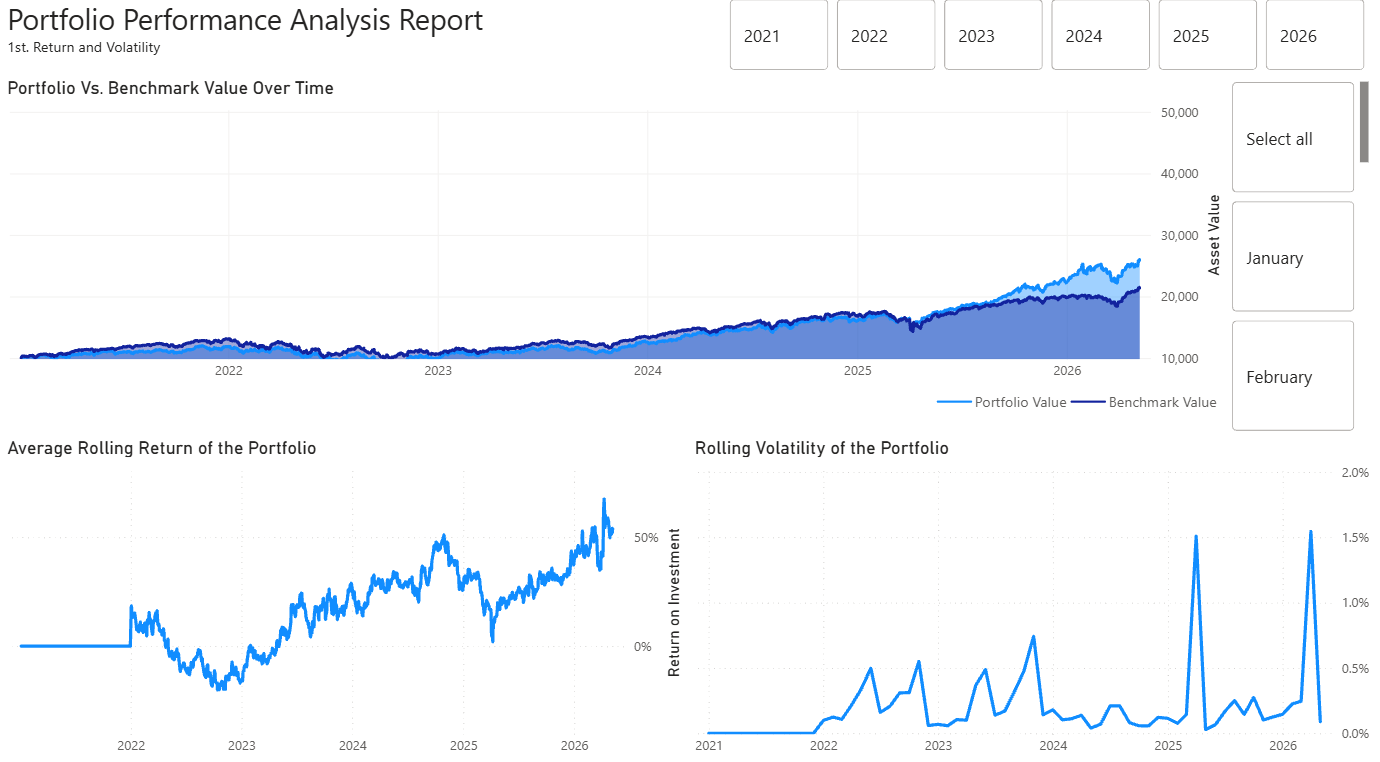

The page's visual inventory and layout, read from the dashboard file:
{"tool":"powerbi","page":{"name":"Page 1","canvas":[1280,720],"ordinal":0},"visuals":[{"type":"areaChart","title":"Portfolio Vs. Benchmark Value Over Time","fields":{"Y":["Avg(fact_portfolio_returns (2).Portfolio_Value)","Avg(fact_portfolio_returns (2).Benchmark_Value)"],"Category":["fact_portfolio_returns.Date.Variation.Date Hierarchy.Year","fact_portfolio_returns.Date.Variation.Date Hierarchy.Quarter","fact_portfolio_returns.Date.Variation.Date Hierarchy.Month","fact_portfolio_returns.Date.Variation.Date Hierarchy.Day"]},"box":[0,76.7,1143,322.1],"z":0},{"type":"advancedSlicerVisual","fields":{"Values":["fact_portfolio_returns.Year"]},"box":[674.4,0,605.8,76.7],"z":1000},{"type":"textbox","box":[0,0,674.4,76.7],"z":2000},{"type":"lineChart","title":"Rolling Volatility of the Portfolio","fields":{"Category":["fact_portfolio_returns.Date.Variation.Date Hierarchy.Year","fact_portfolio_returns.Date.Variation.Date Hierarchy.Quarter","fact_portfolio_returns.Date.Variation.Date Hierarchy.Month","fact_portfolio_returns.Date.Variation.Date Hierarchy.Day"],"Y":["Sum(fact_portfolio_returns.Rolling_Vol_252d)"]},"box":[640.7,412.8,639.5,307],"z":3000},{"type":"lineChart","title":"Average Rolling Return of the Portfolio","fields":{"Y":["Avg(fact_portfolio_returns.Rolling_Return_252d)"],"Category":["fact_portfolio_returns.Date.Variation.Date Hierarchy.Year","fact_portfolio_returns.Date.Variation.Date Hierarchy.Quarter","fact_portfolio_returns.Date.Variation.Date Hierarchy.Month","fact_portfolio_returns.Date.Variation.Date Hierarchy.Day"]},"box":[0,412.8,639.5,307],"z":4000},{"type":"advancedSlicerVisual","fields":{"Values":["fact_portfolio_returns.Month Name"]},"box":[1143,76.7,137.2,336],"z":5000}]}

Visuals, with their boxes in screenshot pixels (x1, y1, x2, y2), scaled from the page's 1280x720 canvas onto the 1380x762 screenshot:
"Portfolio Vs. Benchmark Value Over Time" areaChart: (0, 81, 1232, 422)
advancedSlicerVisual - fact_portfolio_returns.Year: (727, 0, 1379, 81)
textbox: (0, 0, 727, 81)
"Rolling Volatility of the Portfolio" lineChart: (691, 437, 1379, 761)
"Average Rolling Return of the Portfolio" lineChart: (0, 437, 689, 761)
advancedSlicerVisual - fact_portfolio_returns.Month Name: (1232, 81, 1379, 437)
